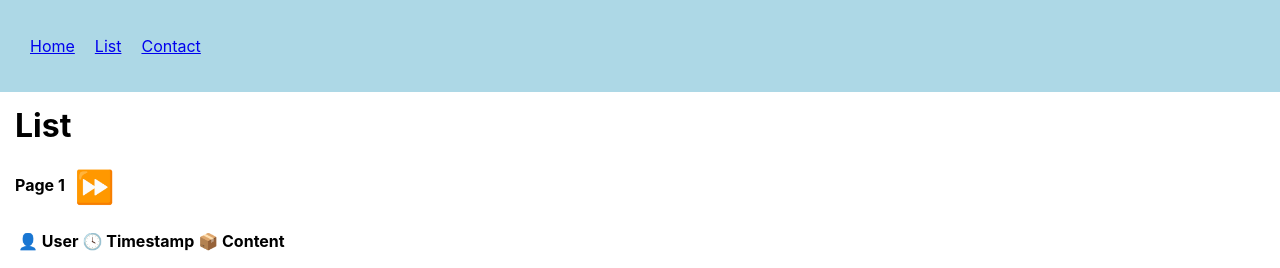
Test: List › should not show prevPageBtn after go back to page 1 from page 2
Click the button with id "nextPage".
click(95, 187)  # box x1=69 y1=167 x2=121 y2=207
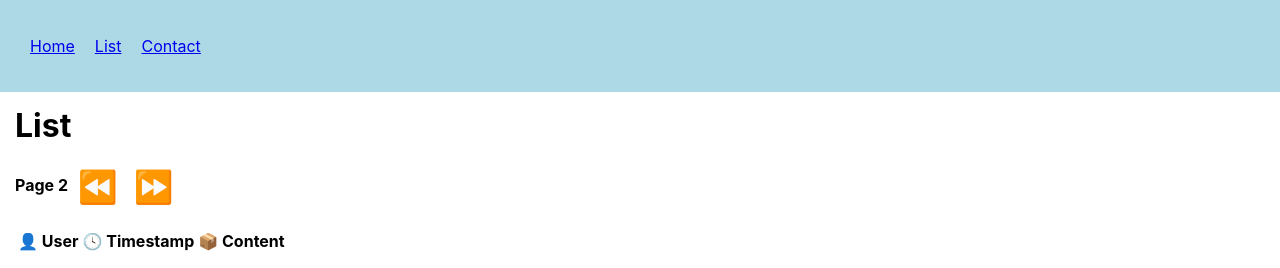
Expected: the heading "Page 2 ⏪ ⏩" is shown, x1=15 y1=167 x2=179 y2=207
Click the button "⏪".
click(98, 187)  # box x1=72 y1=167 x2=124 y2=207
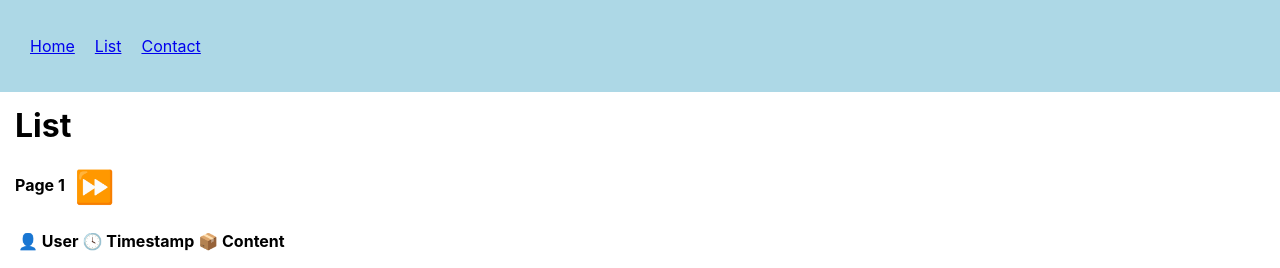
Expected: the button "⏪" is gone
